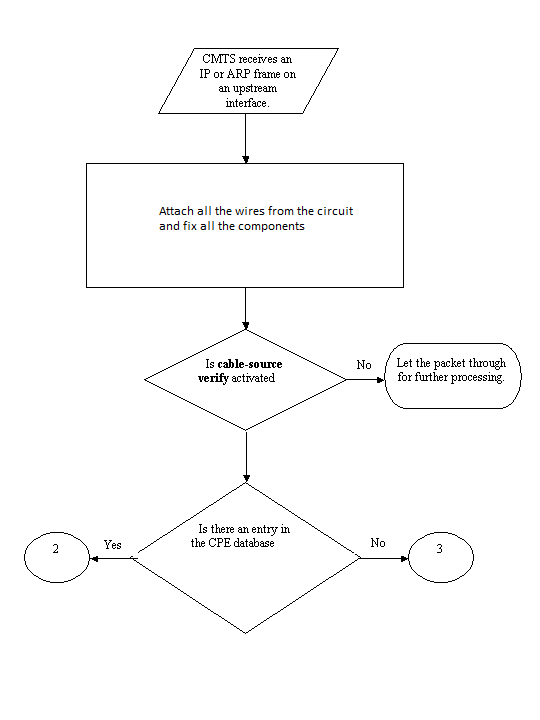arrow: (238, 287, 254, 332), (357, 551, 412, 564), (239, 428, 251, 484), (86, 552, 139, 564), (240, 112, 251, 167), (345, 371, 385, 385)
connection: (20, 529, 95, 586), (405, 530, 476, 583)
data: (148, 44, 342, 119)
decision: (128, 482, 364, 636), (140, 329, 351, 429)
process: (82, 158, 407, 292)
terminator: (382, 340, 525, 415)
text: (194, 48, 302, 109), (156, 204, 357, 232), (394, 354, 514, 388), (186, 517, 295, 548), (195, 355, 286, 388), (365, 533, 392, 552), (100, 534, 124, 554), (353, 353, 374, 375), (429, 542, 450, 561), (49, 539, 63, 558)
